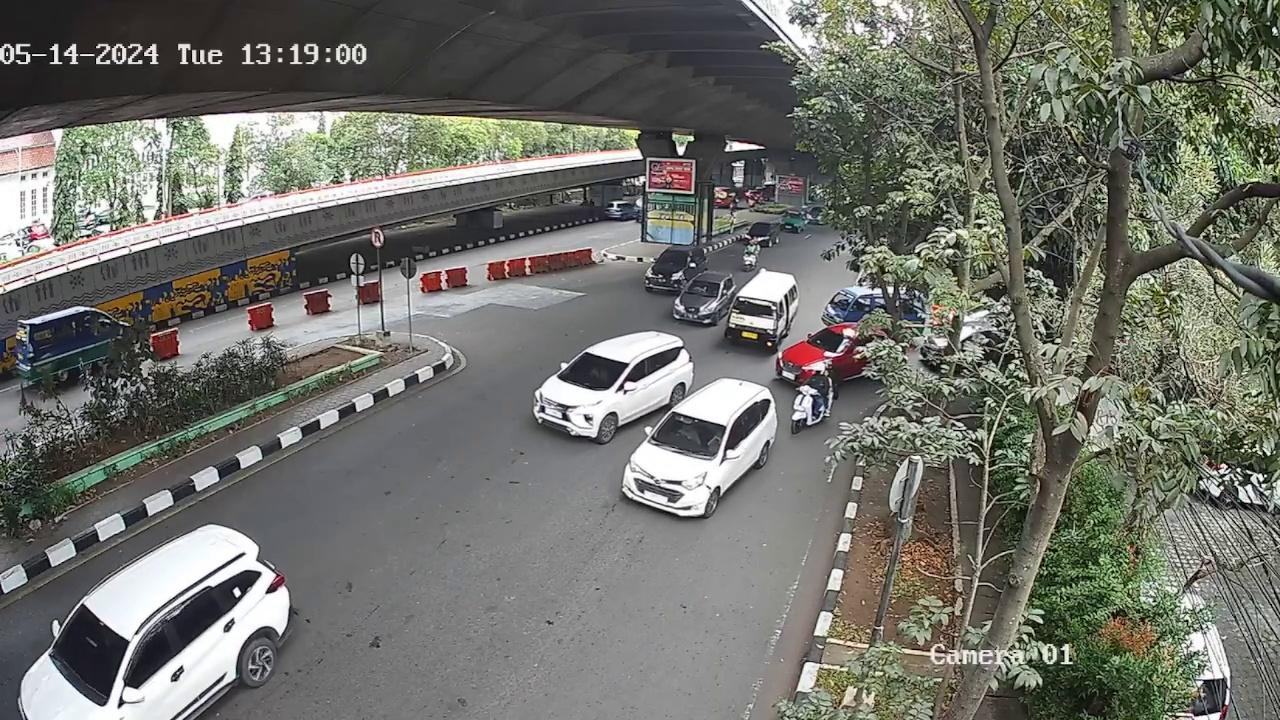pakai: (588, 363, 609, 383)
tidak-pakai: (675, 423, 703, 447)
windshield: (649, 412, 727, 459), (560, 351, 625, 388)
